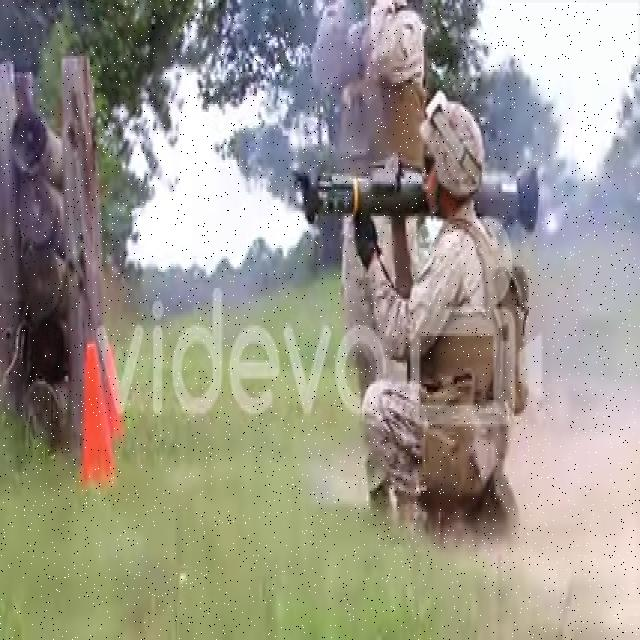bazooka: (298, 155, 544, 239)
